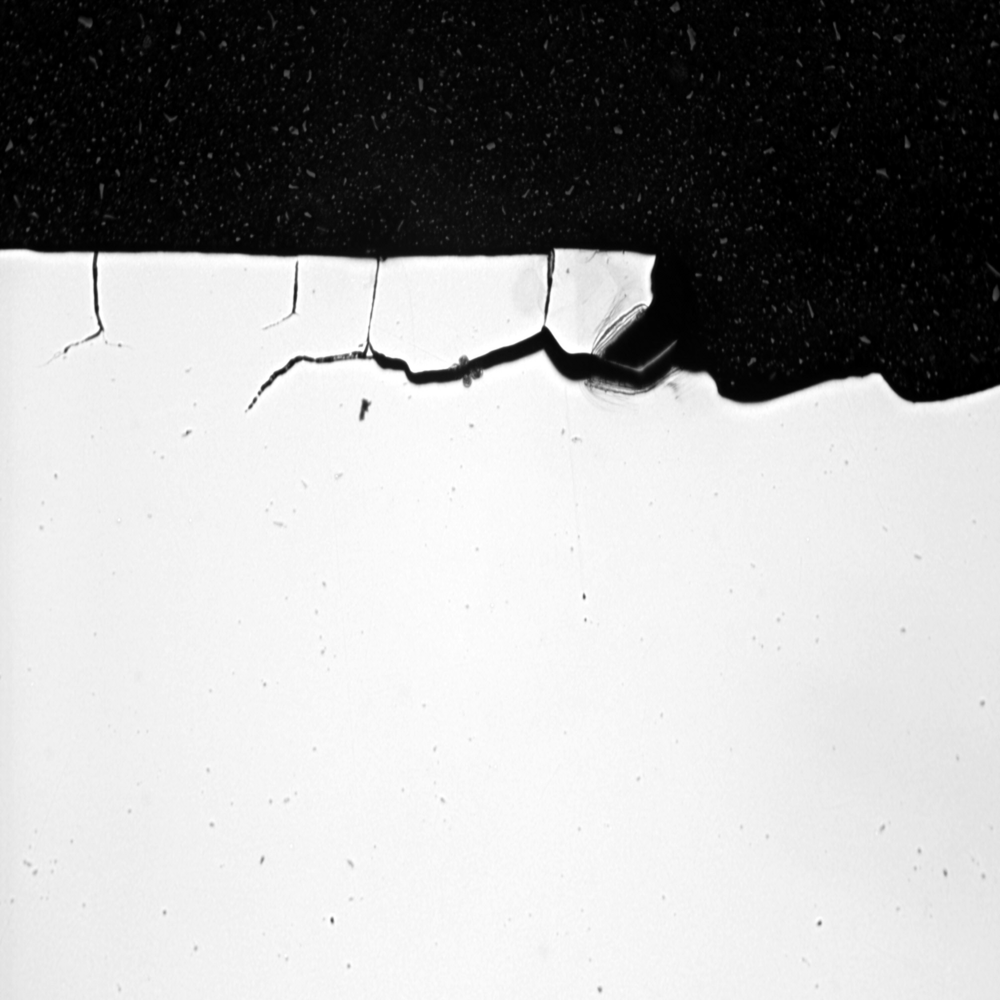crack: (222, 255, 678, 443), (51, 251, 123, 372), (257, 250, 307, 334)
